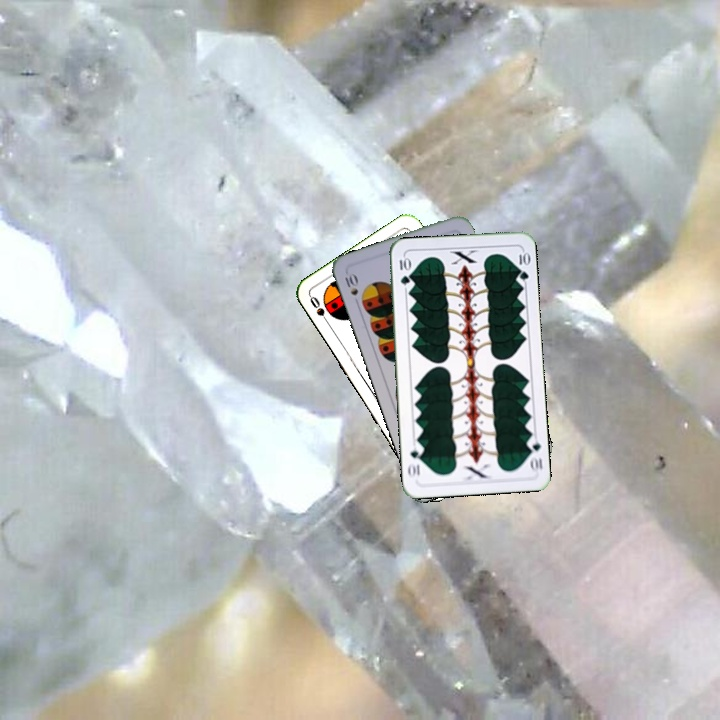G10: (523, 433, 545, 474), (395, 253, 412, 287)
S10: (341, 269, 362, 308)
SO: (306, 292, 333, 329)
